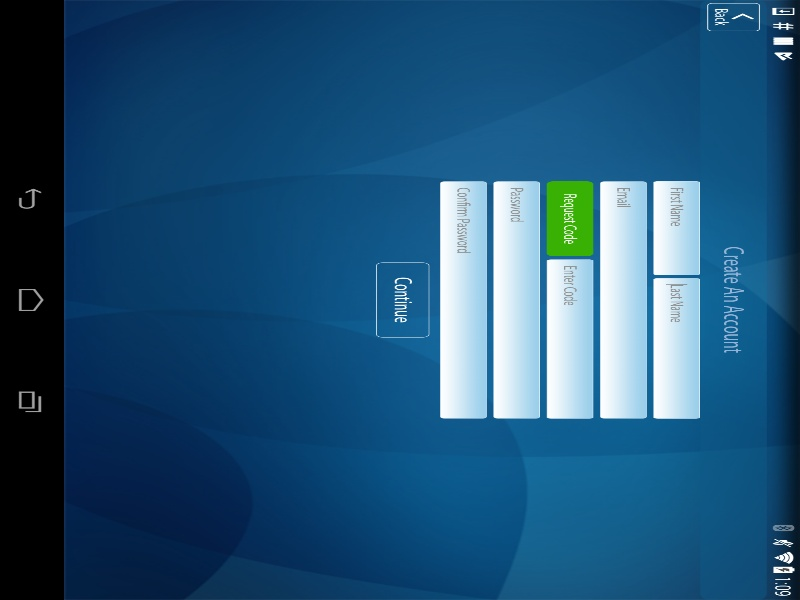Button: (560, 173, 720, 198), (386, 96, 546, 118)
Input: (386, 46, 586, 68)
